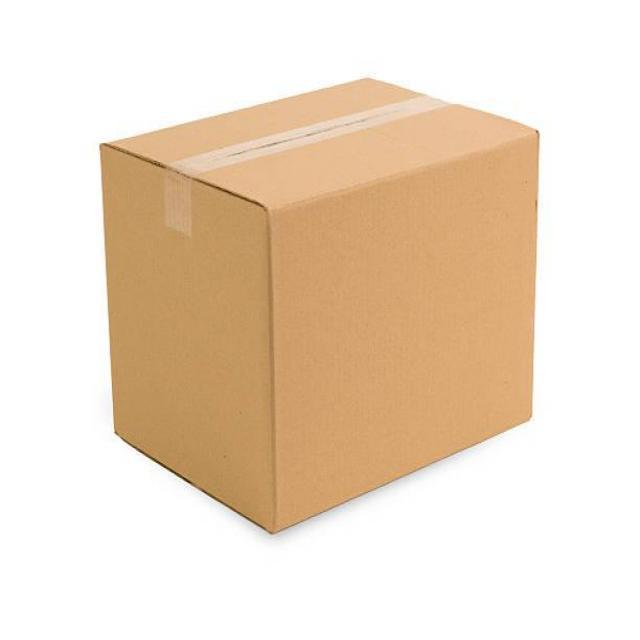box: (92, 70, 548, 544)
